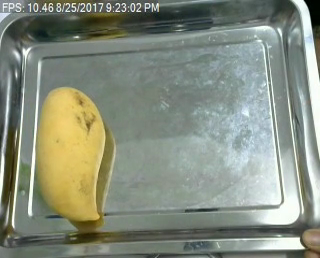Mango: (34, 85, 110, 224)
